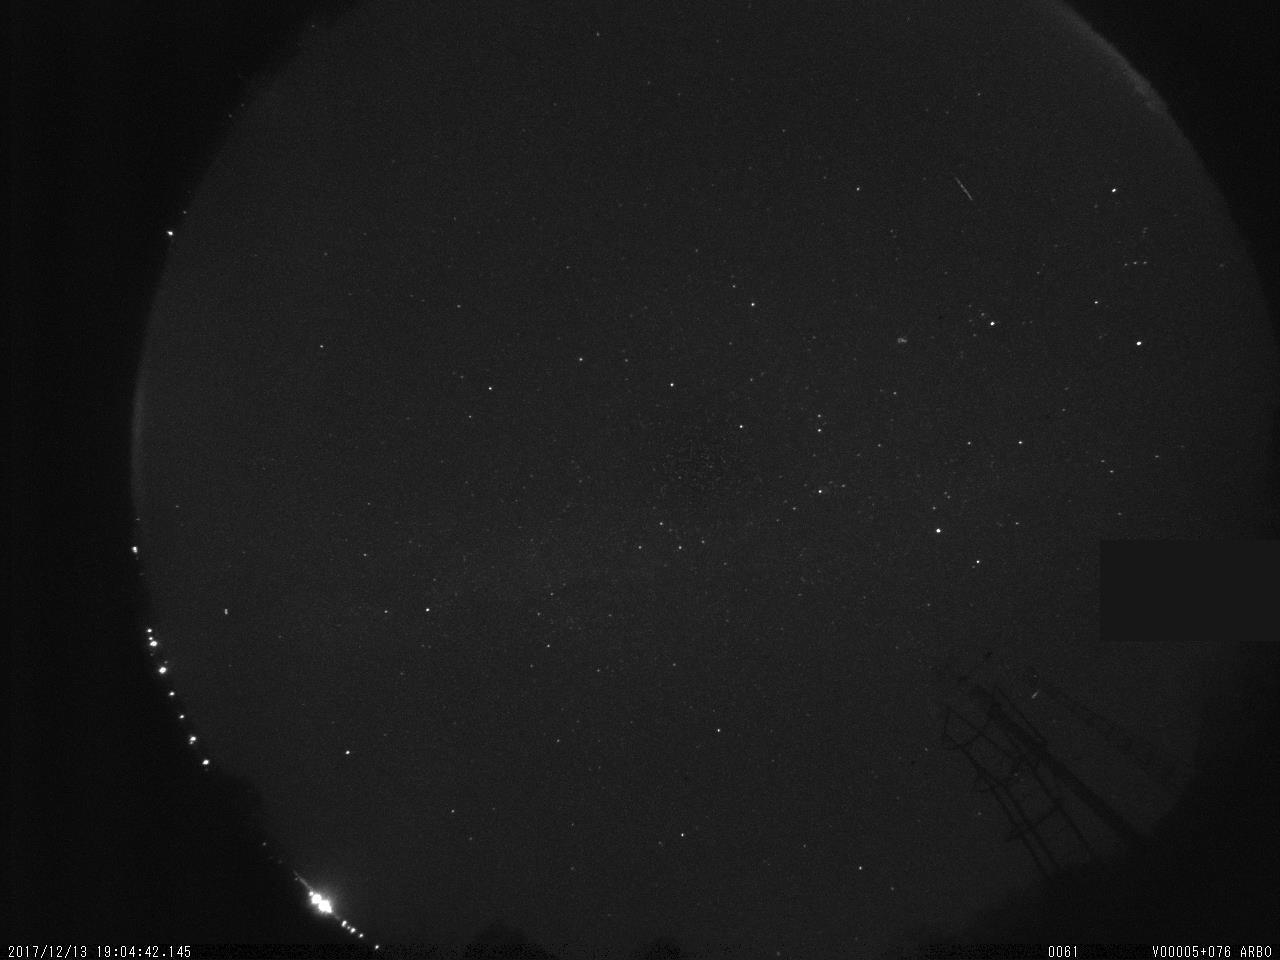meteor: (945, 173, 984, 206)
